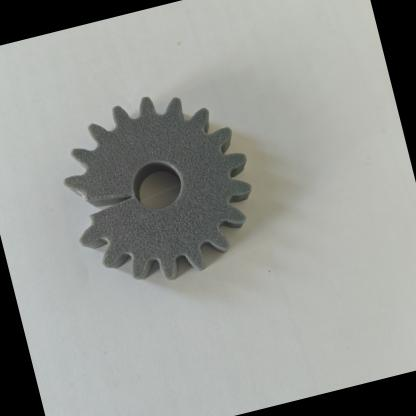defect: (50, 144, 157, 248)
gear: (24, 62, 283, 316)
